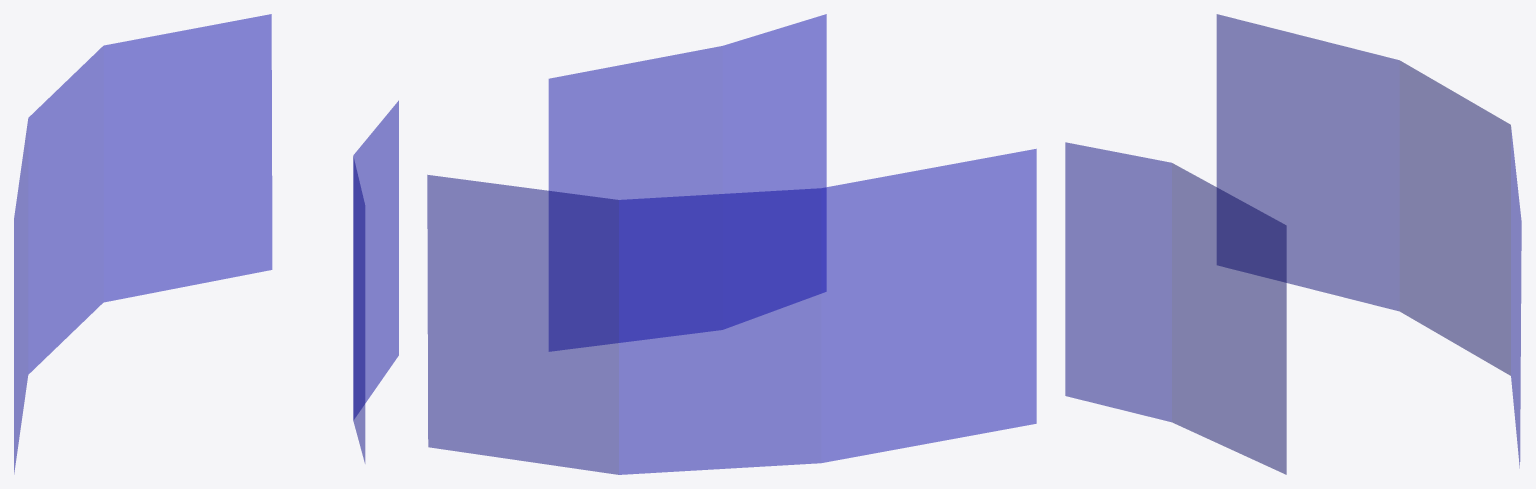
The model's file is track_military_coll_wall_21.fbx.
The picture shows the model from 3 angles, left to right: view 1: azimuth 30°, elevation 25°; view 2: azimuth 150°, elevation 25°; view 3: azimuth 270°, elevation 25°; orthographic projection. The views are drawn at different scales.
Visible parts, largest first — view 1: track_military_coll_wall_21; view 2: track_military_coll_wall_21; view 3: track_military_coll_wall_21.
Boxes of the visible parts, x1=… form: track_military_coll_wall_21: x1=14, y1=14, x2=398, y2=473; track_military_coll_wall_21: x1=427, y1=14, x2=1036, y2=474; track_military_coll_wall_21: x1=1065, y1=14, x2=1521, y2=474.
Size of the model in its own units: 54.55 by 33.67 by 52.45.
